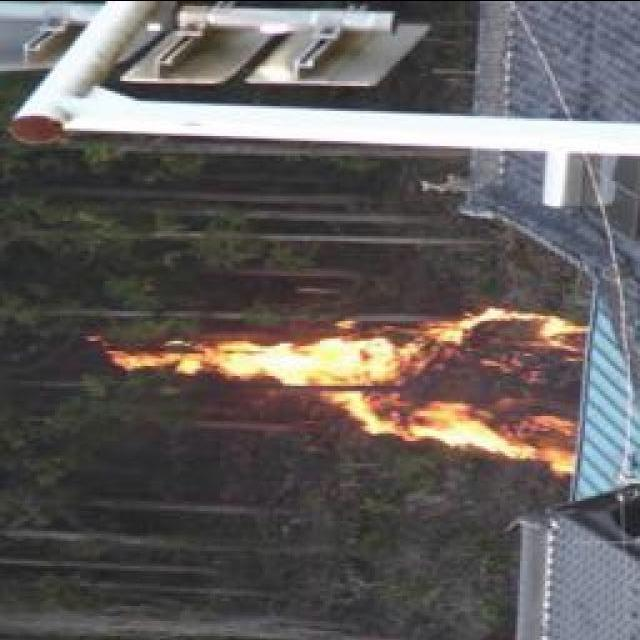Fire: (122, 304, 590, 464)
